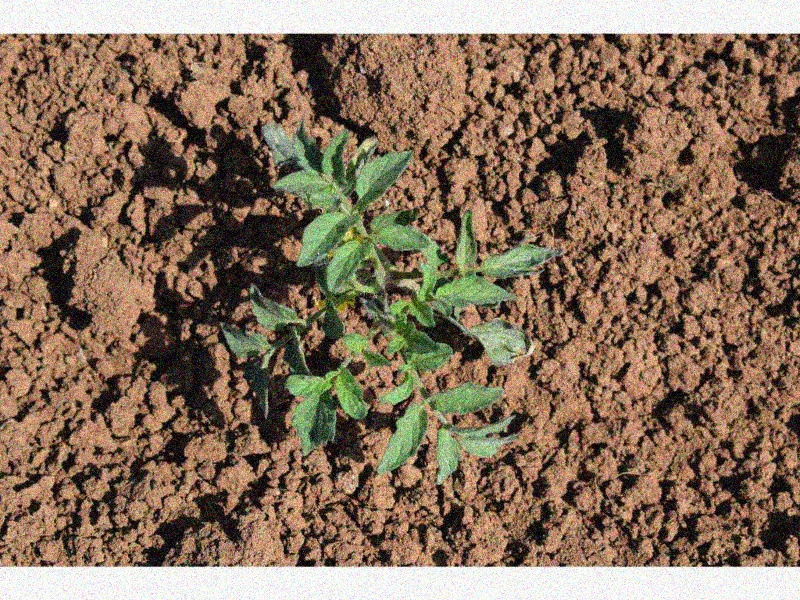tomato: (221, 119, 561, 486)
